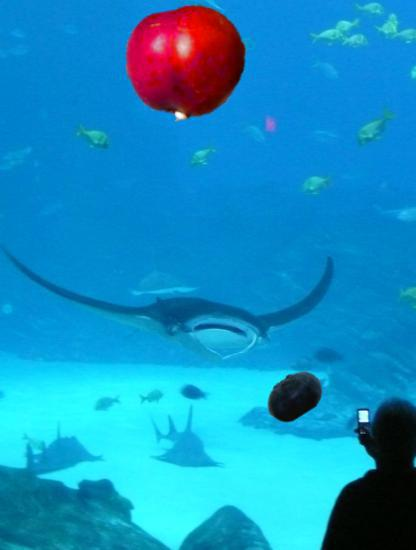Blueberry: (264, 366, 324, 426)
Nectarine: (126, 2, 248, 124)
